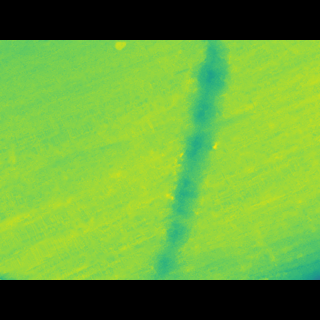Loch: (140, 71, 239, 242)
